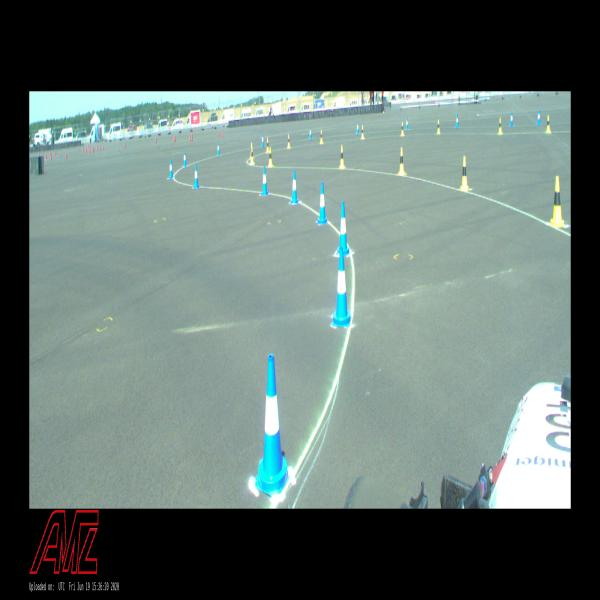blue_cone: (254, 353, 291, 497), (331, 247, 352, 328), (336, 202, 350, 256), (317, 182, 328, 224), (290, 170, 299, 205), (261, 166, 269, 196), (193, 164, 200, 189), (168, 159, 173, 179), (509, 112, 514, 127), (183, 151, 187, 167), (537, 110, 541, 125), (455, 115, 459, 128), (405, 117, 409, 130), (356, 122, 360, 134), (217, 142, 220, 156), (261, 134, 264, 147), (309, 128, 312, 139)
yellow_cone: (549, 176, 565, 228), (460, 156, 470, 191), (398, 148, 406, 176), (339, 145, 345, 169), (268, 147, 273, 167), (546, 115, 551, 132), (250, 149, 255, 165), (498, 117, 502, 134), (250, 142, 254, 159), (266, 138, 270, 154), (287, 134, 291, 149), (436, 120, 440, 134), (400, 122, 404, 136), (361, 125, 365, 139), (320, 130, 323, 144)
